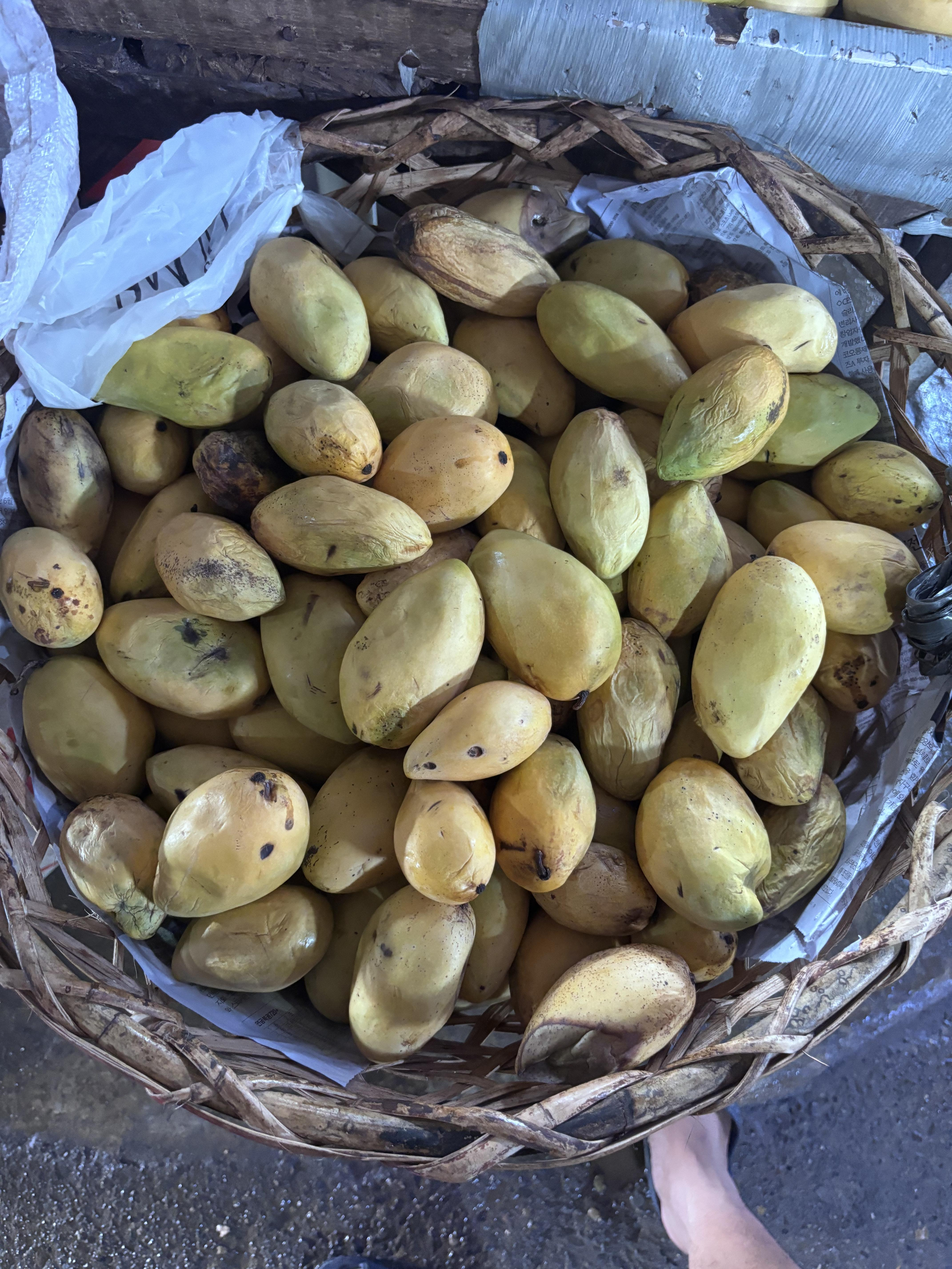mango: (339, 559, 484, 748), (692, 556, 826, 758), (468, 529, 621, 701), (516, 945, 695, 1085), (154, 765, 309, 918), (635, 758, 771, 932), (349, 886, 475, 1061), (96, 599, 270, 719), (251, 475, 432, 576), (657, 345, 789, 481), (250, 237, 370, 382), (550, 409, 650, 580), (489, 735, 596, 893), (404, 681, 551, 782), (155, 513, 285, 621), (0, 527, 103, 649), (395, 780, 495, 904), (265, 379, 382, 483), (812, 441, 943, 532)
occluded: (537, 281, 690, 414), (22, 655, 155, 803), (393, 204, 558, 317), (578, 618, 680, 800), (94, 326, 271, 428), (260, 573, 364, 746), (172, 884, 334, 992), (768, 521, 920, 635), (373, 415, 514, 534), (628, 481, 732, 639), (302, 747, 410, 894), (733, 373, 880, 479), (453, 312, 576, 437), (668, 284, 838, 373), (60, 795, 165, 939), (304, 874, 404, 1023), (110, 473, 223, 603), (356, 342, 498, 444), (17, 408, 113, 558), (755, 774, 846, 919), (509, 910, 619, 1027), (227, 693, 359, 787), (557, 239, 689, 328), (536, 841, 657, 936), (736, 686, 829, 806), (356, 528, 479, 616), (475, 437, 566, 549), (344, 257, 449, 354), (193, 428, 296, 524), (460, 188, 588, 263), (460, 868, 530, 1003), (633, 901, 737, 983), (99, 406, 190, 495), (146, 744, 257, 815), (236, 321, 308, 426), (813, 631, 899, 712), (746, 480, 836, 548), (620, 407, 678, 503), (660, 701, 722, 768), (151, 707, 235, 748), (593, 783, 635, 852), (718, 516, 765, 572), (715, 475, 753, 527), (167, 308, 231, 333), (705, 477, 720, 504), (952, 404, 952, 408)
